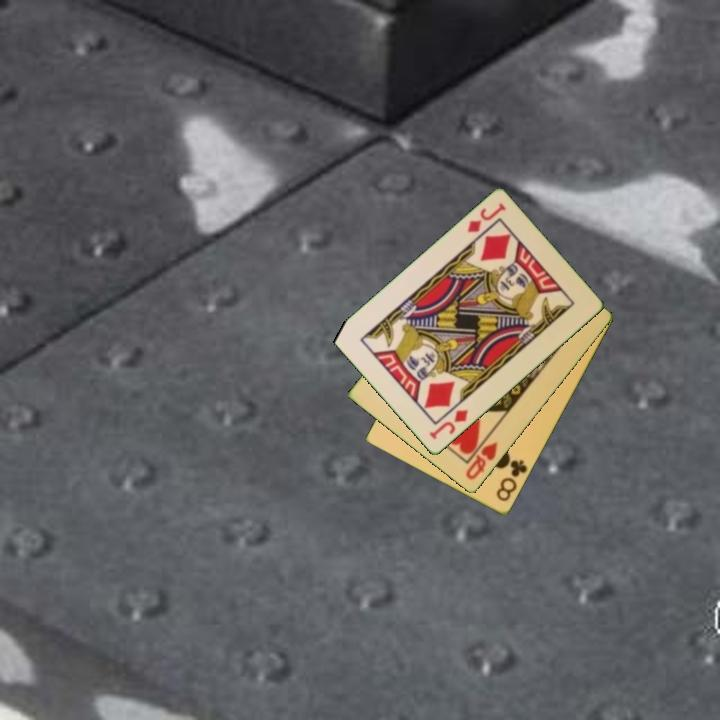8c: (493, 456, 530, 505)
Jd: (426, 406, 471, 443), (464, 200, 509, 236)
Qh: (462, 438, 501, 483)
